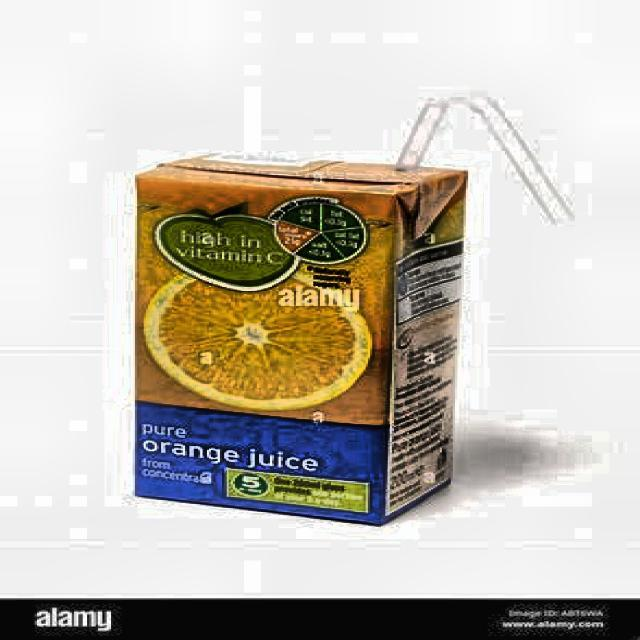cardboard: (130, 150, 466, 526)
